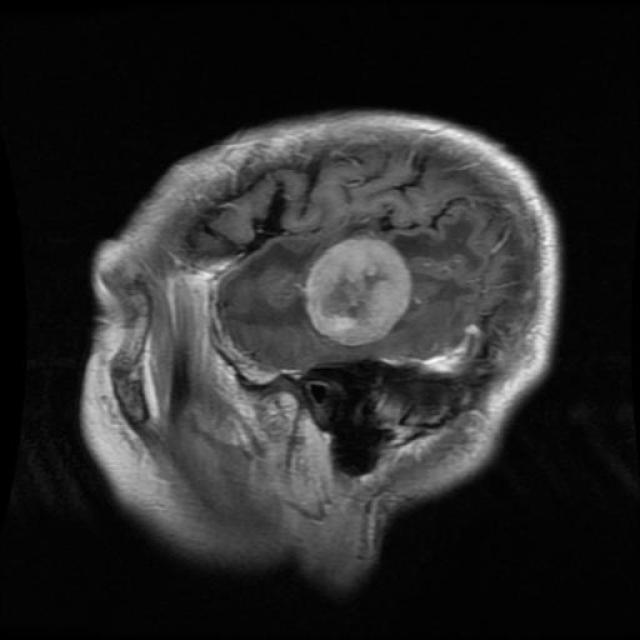meningioma: (304, 239, 412, 348)
